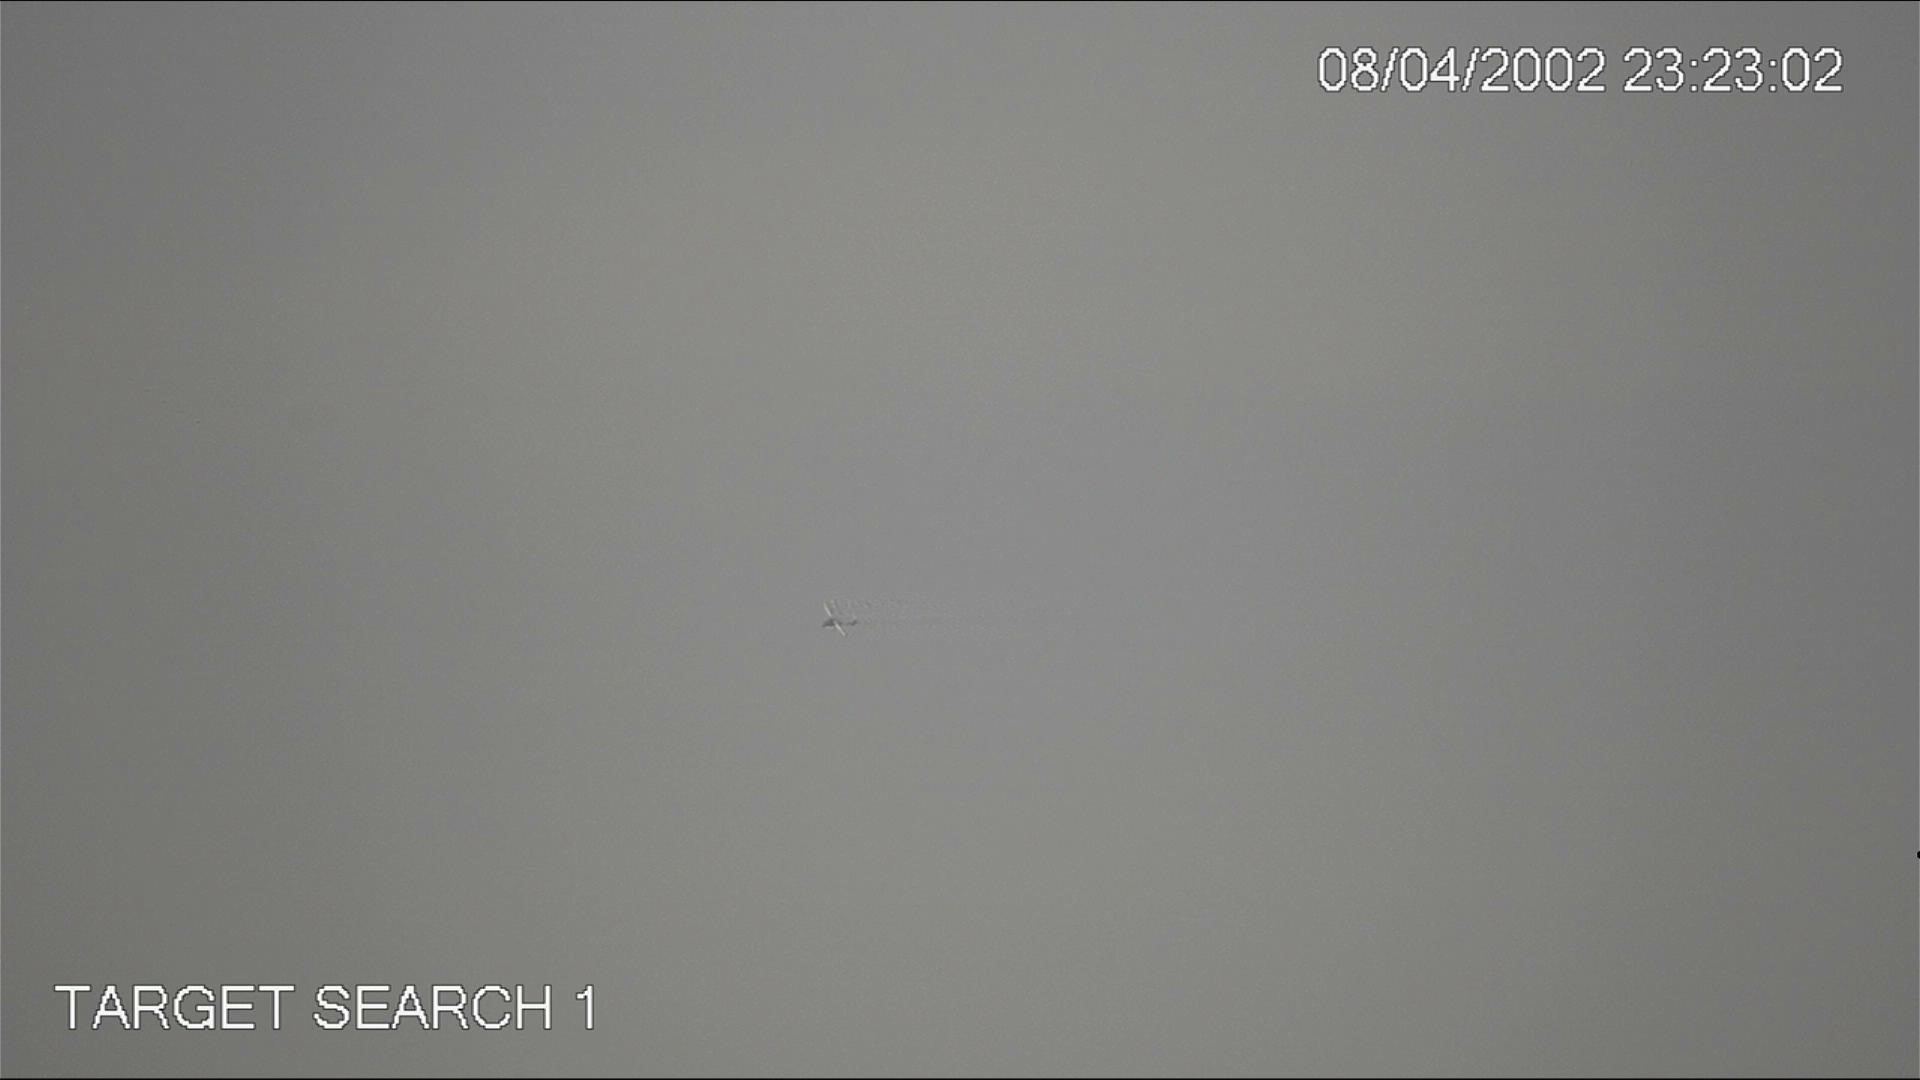SU_30: (818, 601, 864, 641)
